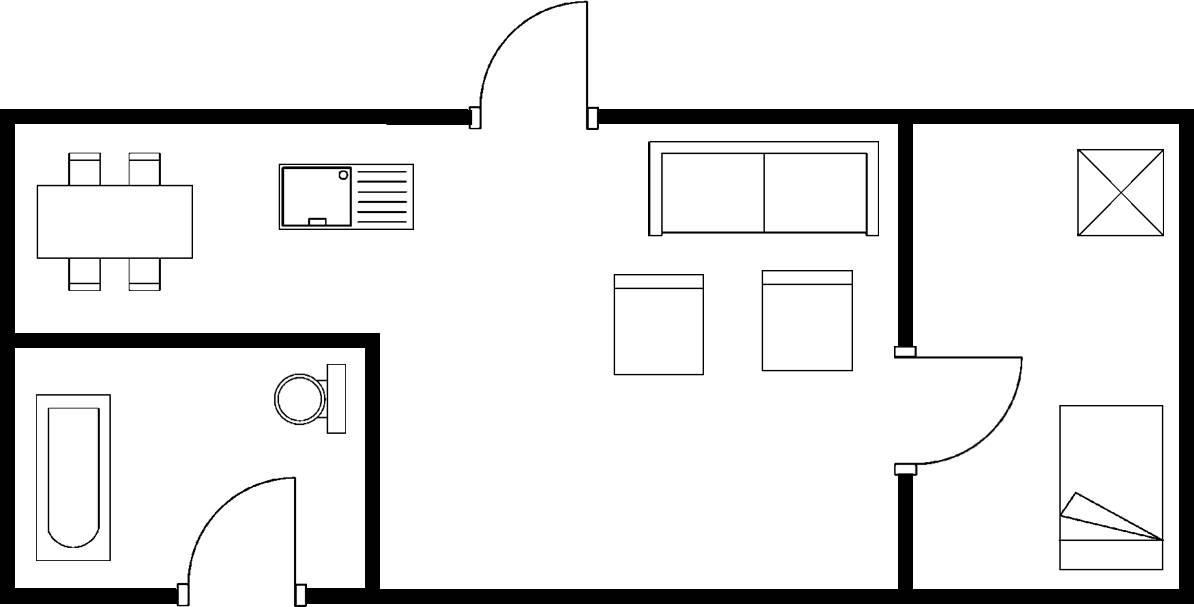bed: (1052, 396, 1168, 574)
dining_table: (29, 142, 197, 296)
sink: (272, 155, 420, 237)
sofa: (640, 134, 883, 244)
toilet: (267, 354, 353, 443)
tub: (27, 387, 116, 567)
